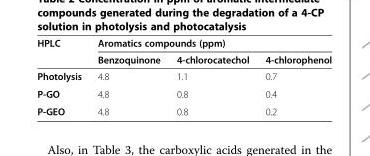table: (36, 36, 331, 116)
table column: (167, 36, 256, 116), (88, 36, 167, 116), (256, 36, 331, 116), (36, 36, 88, 116)
table column header: (36, 36, 331, 67)
table row: (36, 84, 331, 102), (36, 50, 331, 67), (36, 67, 331, 84), (36, 36, 331, 50), (36, 102, 331, 116)
table spanning cell: (88, 36, 331, 50), (36, 36, 88, 67)
